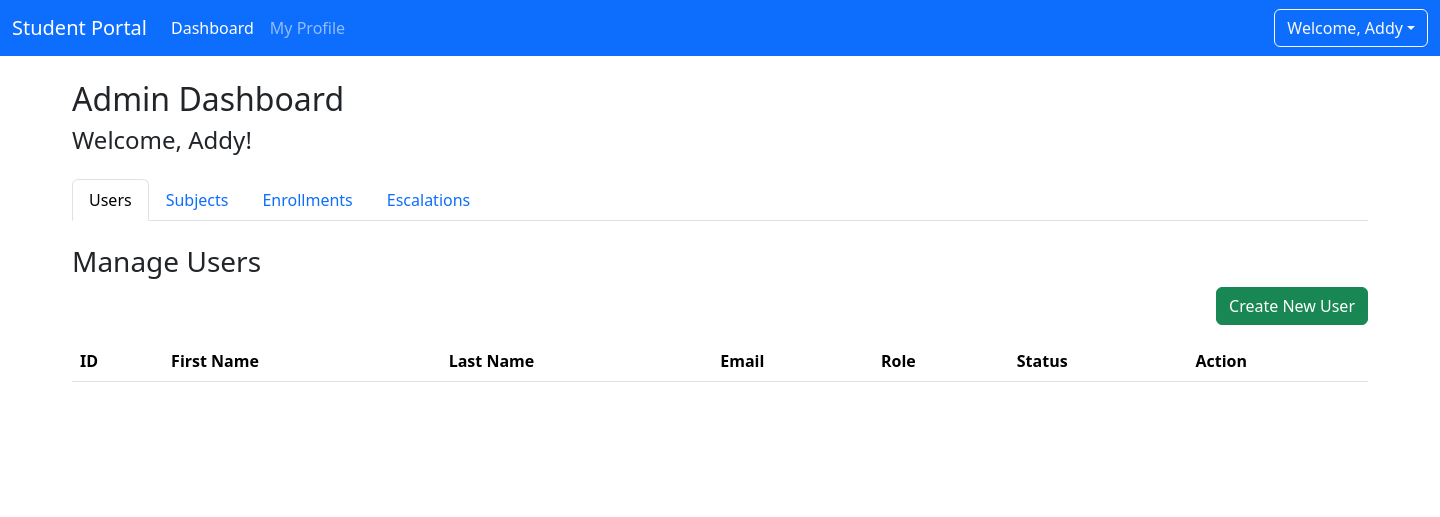
Scenario: AdminDashboardPage — server-side pagination (26.7) › Subjects tab › renders subject rows and pagination from paged API
Check: the heading "Manage Users" is shown, box x1=72 y1=242 x2=261 y2=280
Click the button "Subjects".
click(197, 200)  # box x1=149 y1=179 x2=246 y2=221
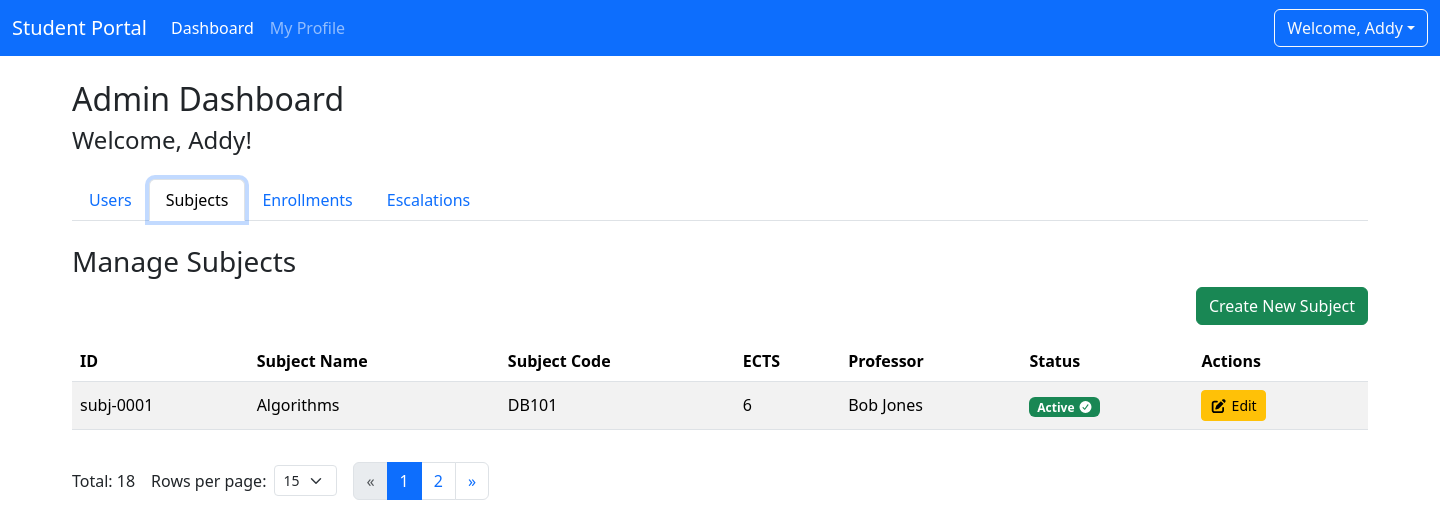
Check: the text "Algorithms" is shown, box x1=249 y1=381 x2=500 y2=429
Check: the text "Total: 18" is shown, box x1=72 y1=469 x2=135 y2=493
